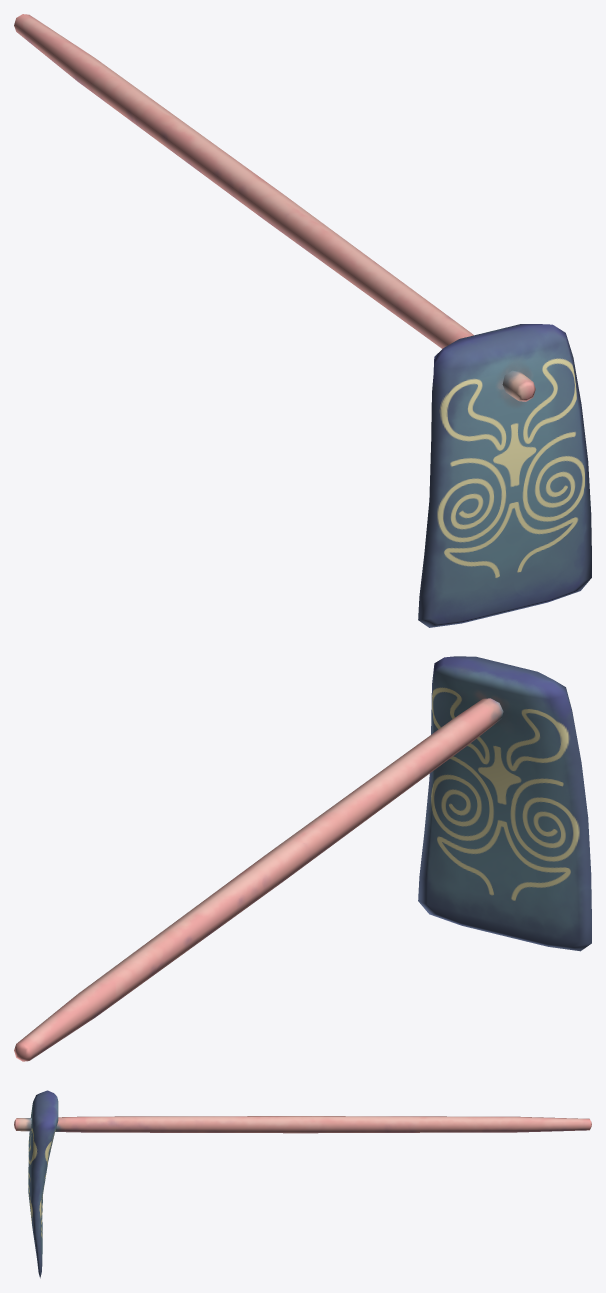
The model's file is Hoe.fbx.
The picture shows the model from 3 angles, top to bottom: view 1: azimuth 30°, elevation 25°; view 2: azimuth 150°, elevation 25°; view 3: azimuth 270°, elevation 25°; orthographic projection. The views are drawn at different scales.
Parts seen in each view (by area): view 1: hoe; view 2: hoe; view 3: hoe.
Boxes of the visible parts, bbox=[...] form: hoe: bbox=[14, 14, 591, 627]; hoe: bbox=[14, 656, 591, 1061]; hoe: bbox=[14, 1090, 591, 1278].
Size of the model in its own units: 0.1989 by 0.2994 by 1.01.
